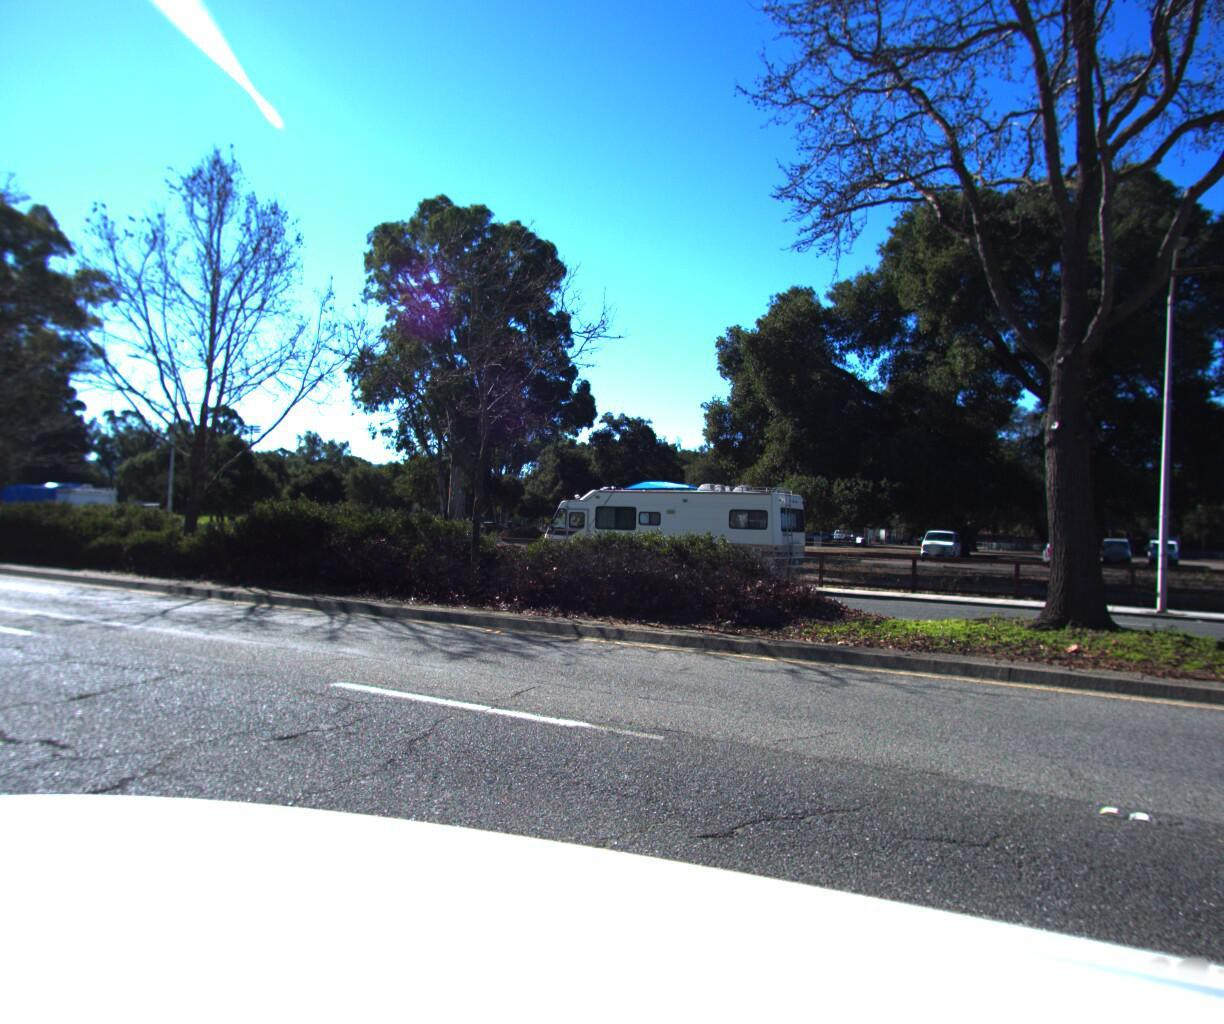other_vehicle: (523, 470, 819, 592), (0, 476, 122, 543)
